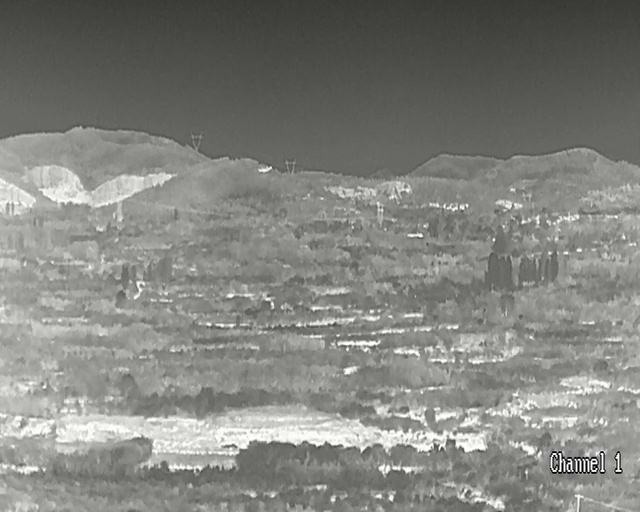uav: (258, 166, 271, 171)
